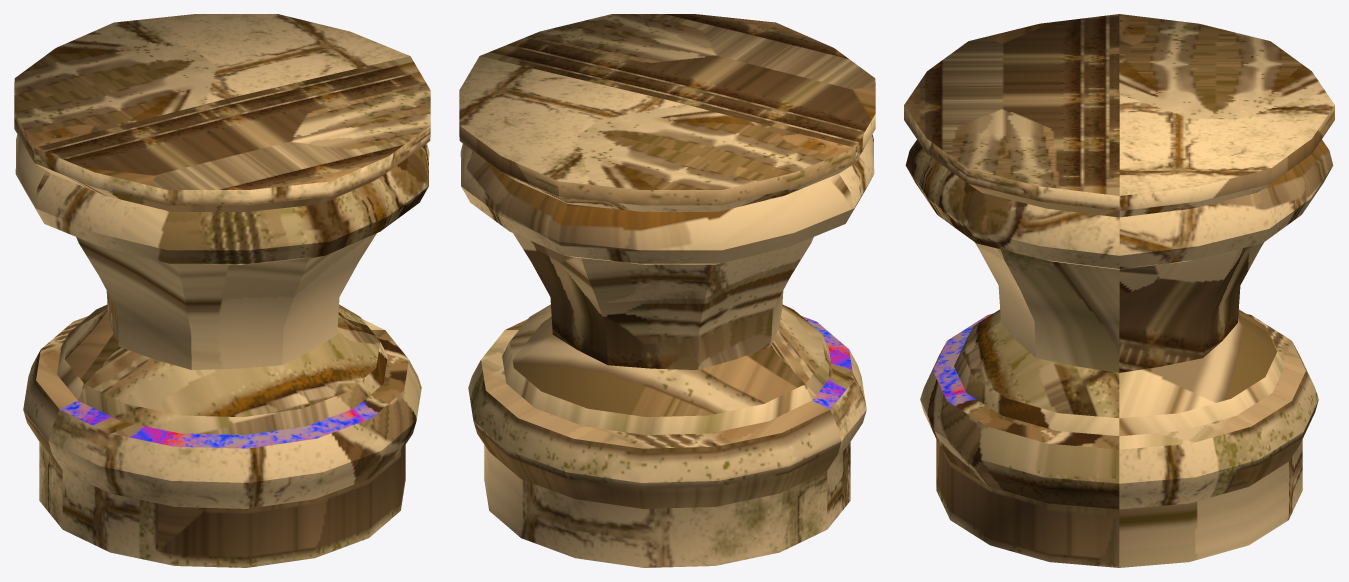
Rendered from SM_Columna2Top.fbx.
The picture shows the model from 3 angles, left to right: view 1: azimuth 30°, elevation 25°; view 2: azimuth 150°, elevation 25°; view 3: azimuth 270°, elevation 25°; orthographic projection.
Parts seen in each view (by area): view 1: SM_Columna2Top; view 2: SM_Columna2Top; view 3: SM_Columna2Top.
Boxes of the visible parts, bbox=[...] form: SM_Columna2Top: bbox=[14, 14, 430, 567]; SM_Columna2Top: bbox=[459, 14, 875, 567]; SM_Columna2Top: bbox=[904, 14, 1334, 567].
Bounding box in the file's own units: 101 × 101 × 101.
